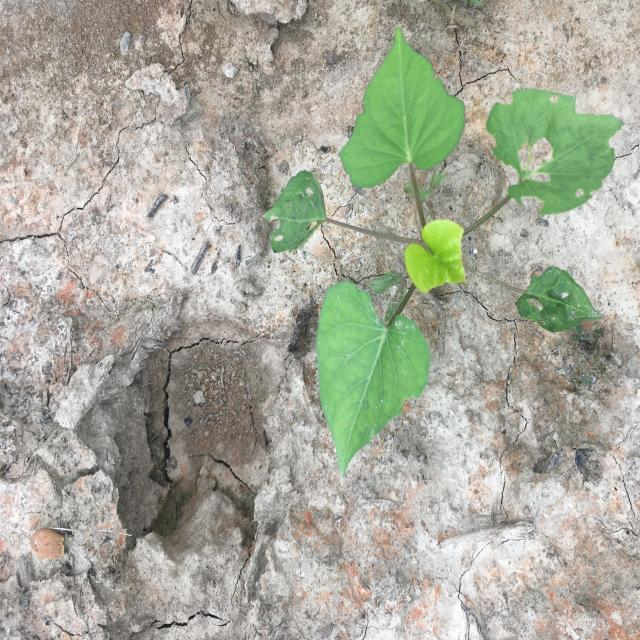MorningGlory: (262, 23, 626, 479)
